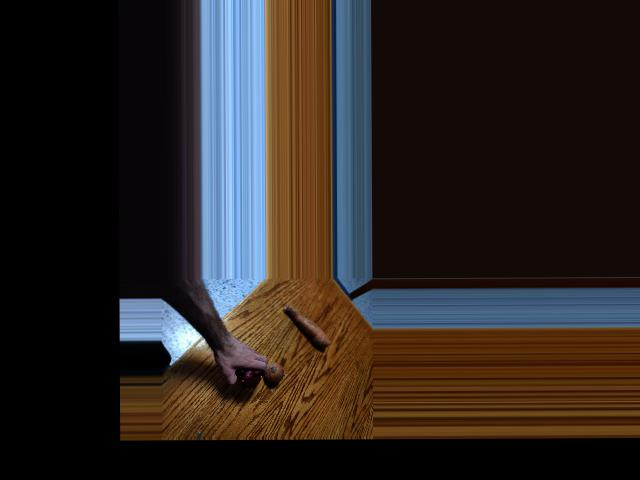onion: (263, 360, 284, 384)
